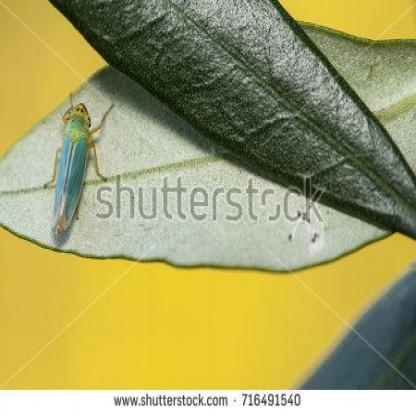Green-Leafhopper: (44, 89, 113, 255)
